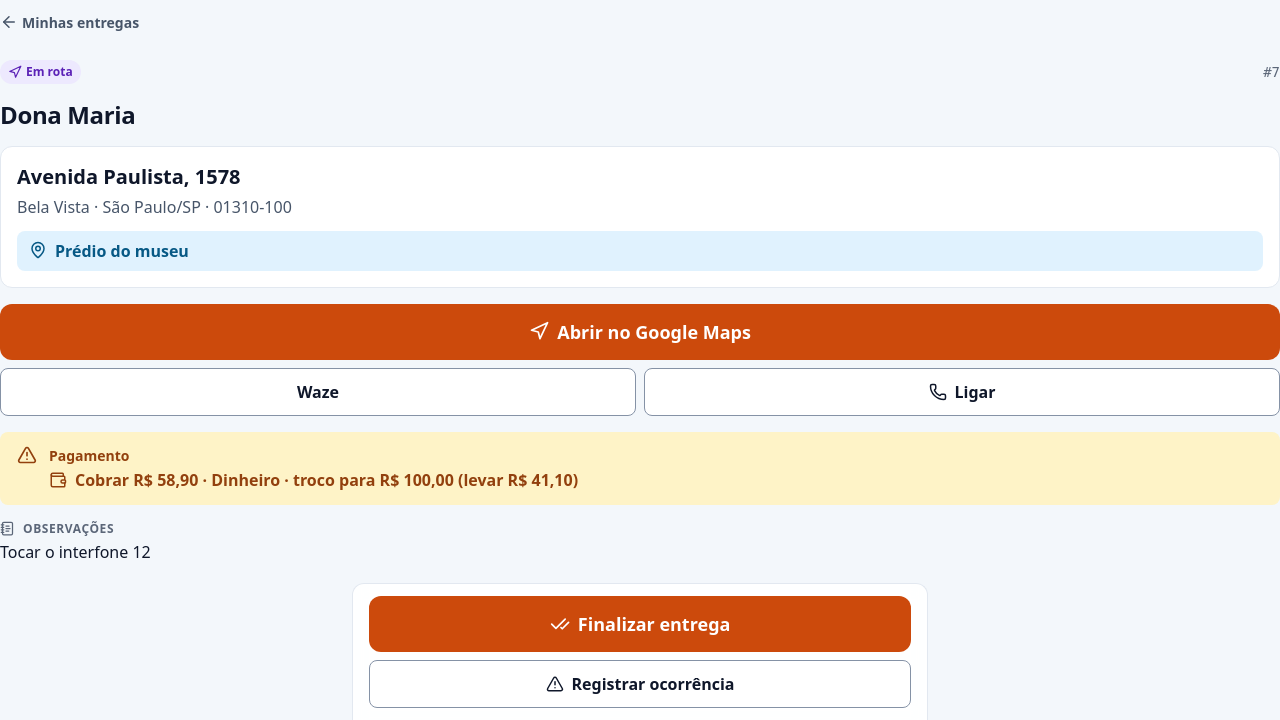
Test: DelivererDeliveryPage › finaliza com o nome de quem recebeu e volta para a lista
Click the button "Finalizar entrega" at (640, 624), box [369,596,911,652]
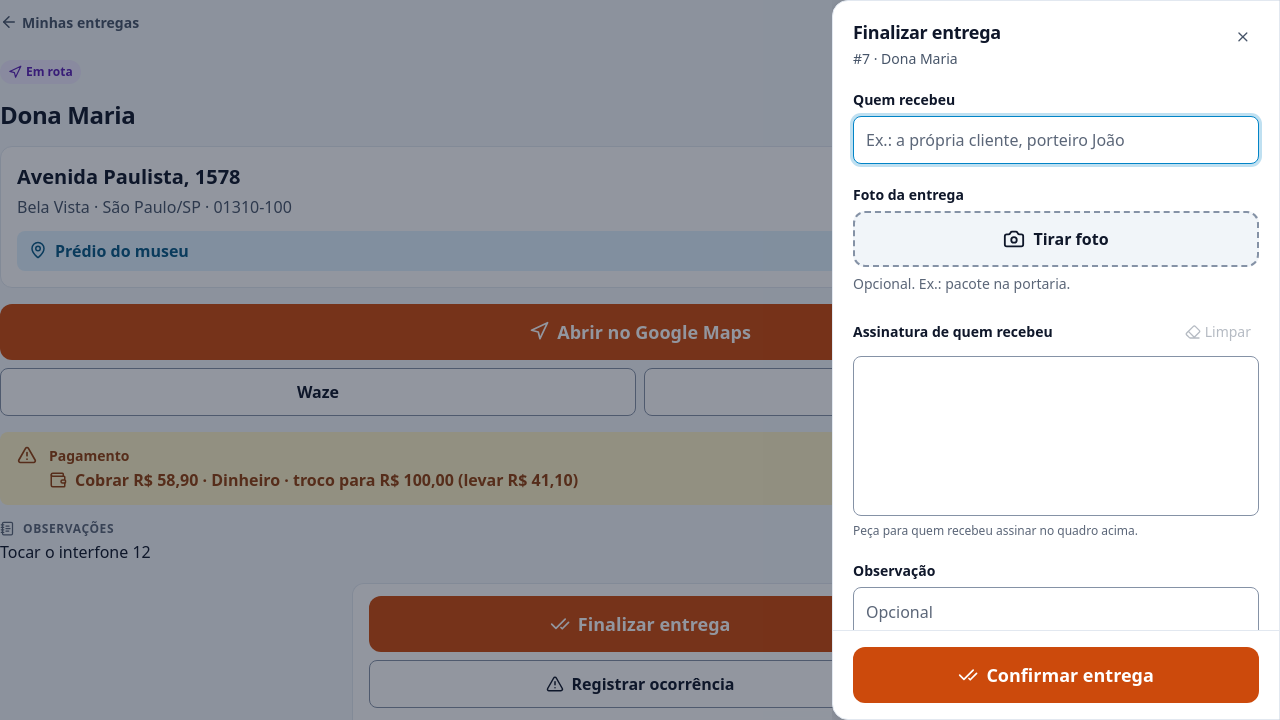
Type "Porteiro João" into the field labelled "Quem recebeu" at (1056, 140), box [854,116,1258,162]
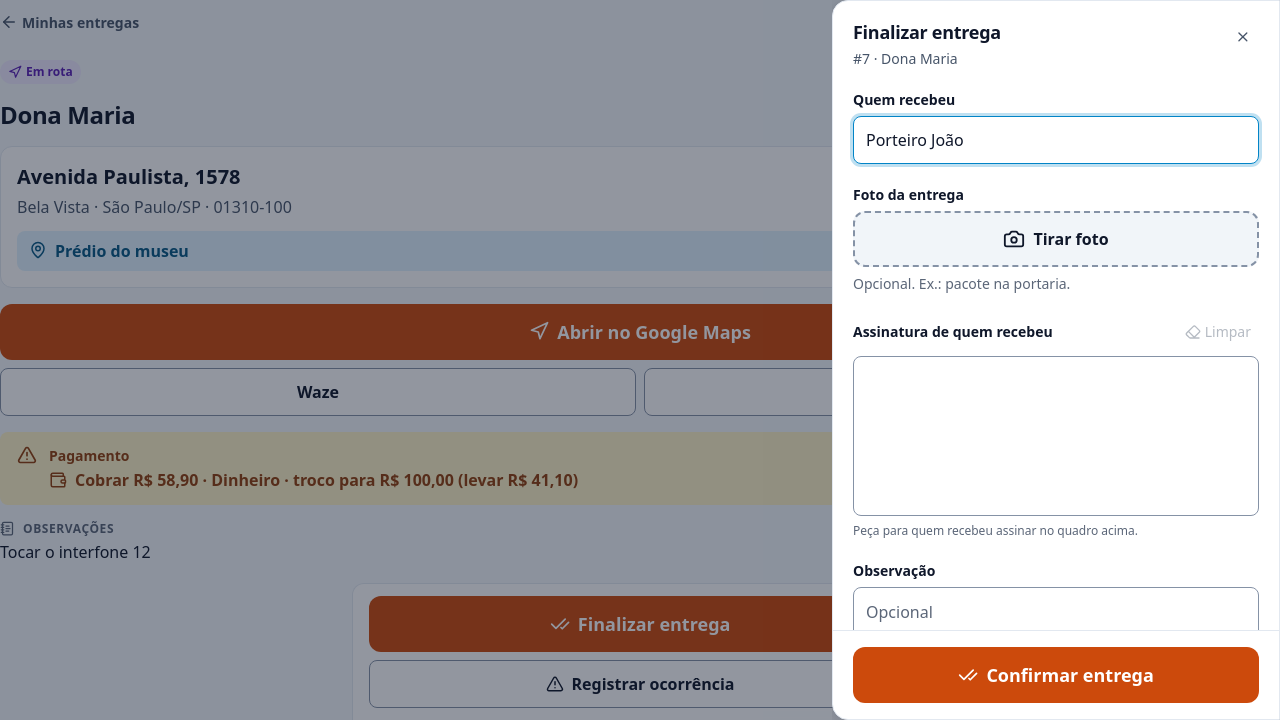
Click the button "Confirmar entrega" at (1056, 675), box [853,647,1259,703]
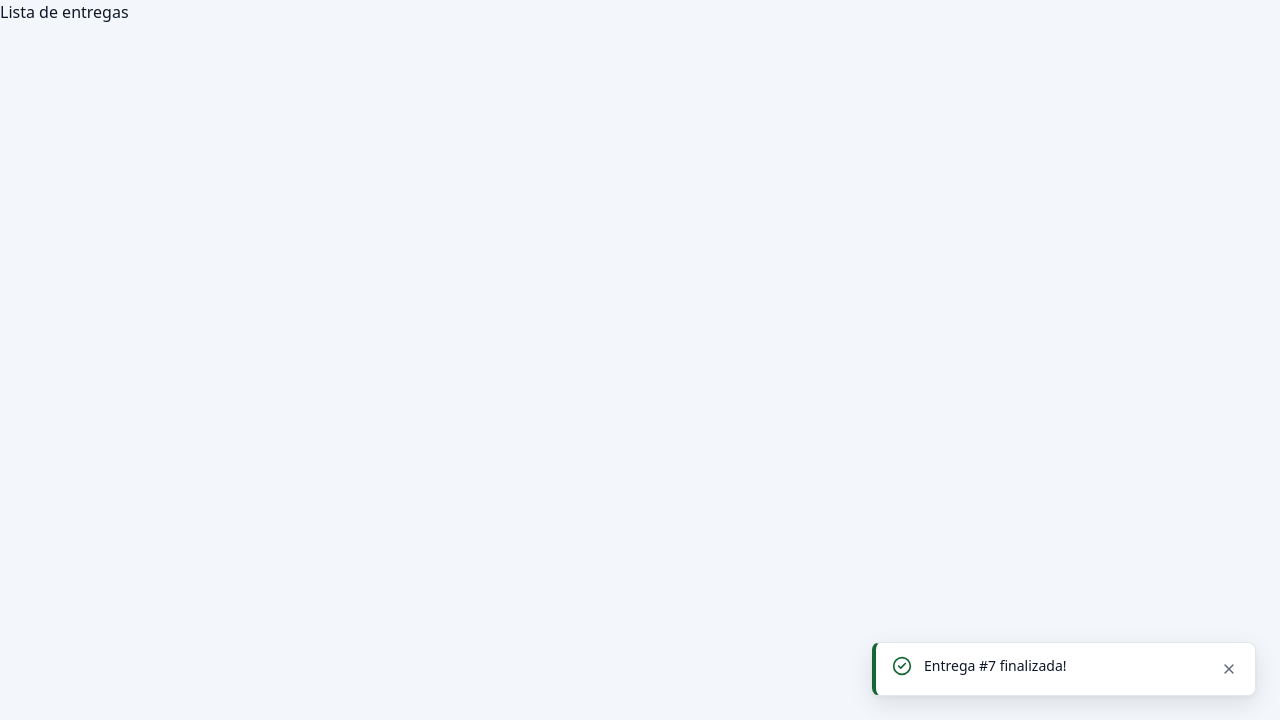
Check: the text "Lista de entregas" is shown, box [0,1,129,23]
